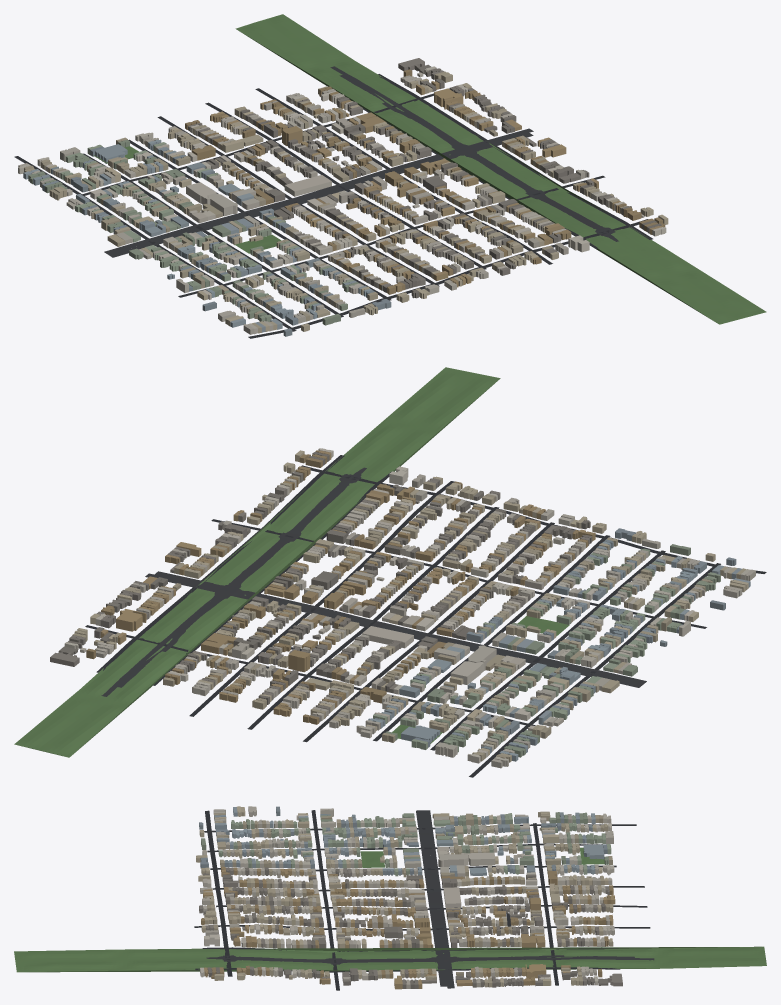
Rendered from tile_5_12.glb.
3 views of the same model, one above another, from view 1: azimuth 30°, elevation 25°; view 2: azimuth 150°, elevation 25°; view 3: azimuth 270°, elevation 25° (orthographic). The views are drawn at different scales.
Visible parts, largest first — view 1: bld_5_12, grn_5_12, road_5_12; view 2: bld_5_12, grn_5_12, road_5_12; view 3: bld_5_12, grn_5_12, road_5_12.
Boxes of the visible parts, x1=… form: bld_5_12: x1=18, y1=58, x2=668, y2=336; grn_5_12: x1=93, y1=14, x2=766, y2=324; road_5_12: x1=14, y1=66, x2=652, y2=338; bld_5_12: x1=50, y1=448, x2=755, y2=768; grn_5_12: x1=14, y1=367, x2=569, y2=757; road_5_12: x1=85, y1=455, x2=766, y2=777; bld_5_12: x1=196, y1=806, x2=622, y2=989; grn_5_12: x1=14, y1=847, x2=766, y2=972; road_5_12: x1=194, y1=810, x2=654, y2=990.
Size of the model in its own units: 853 by 40.69 by 1462.
